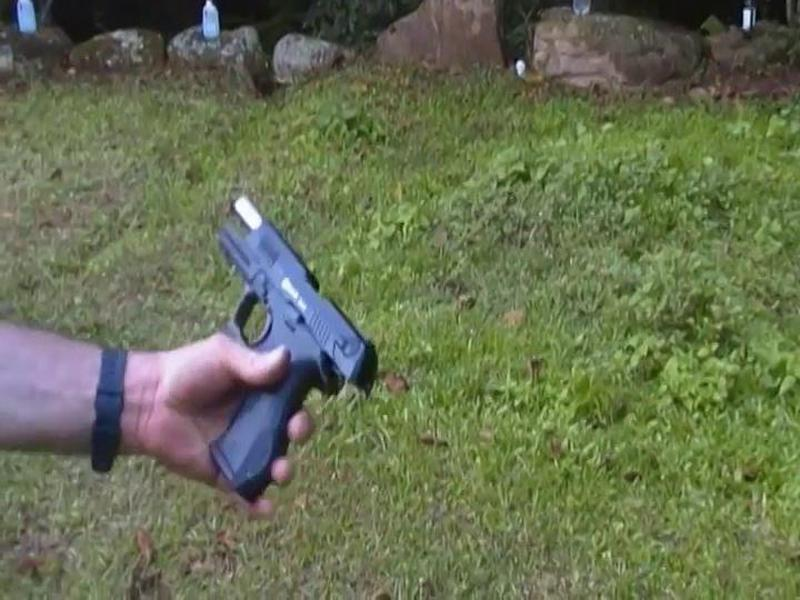Pistola: (171, 191, 393, 507)
